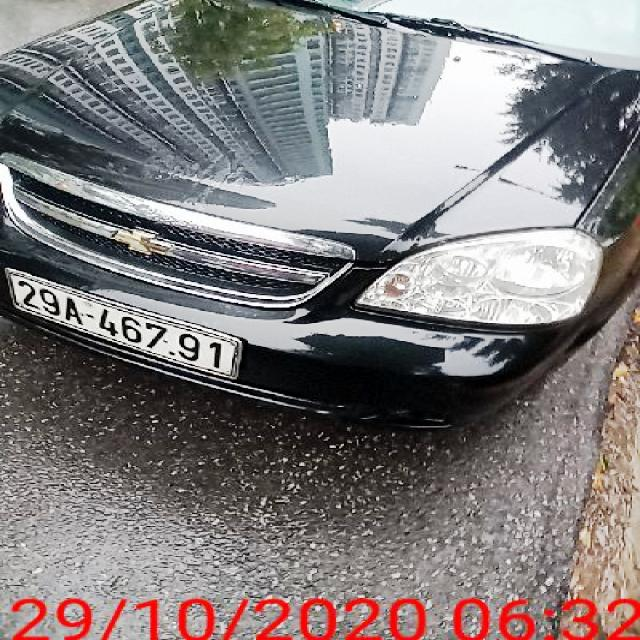license_plate: (13, 271, 240, 378)
